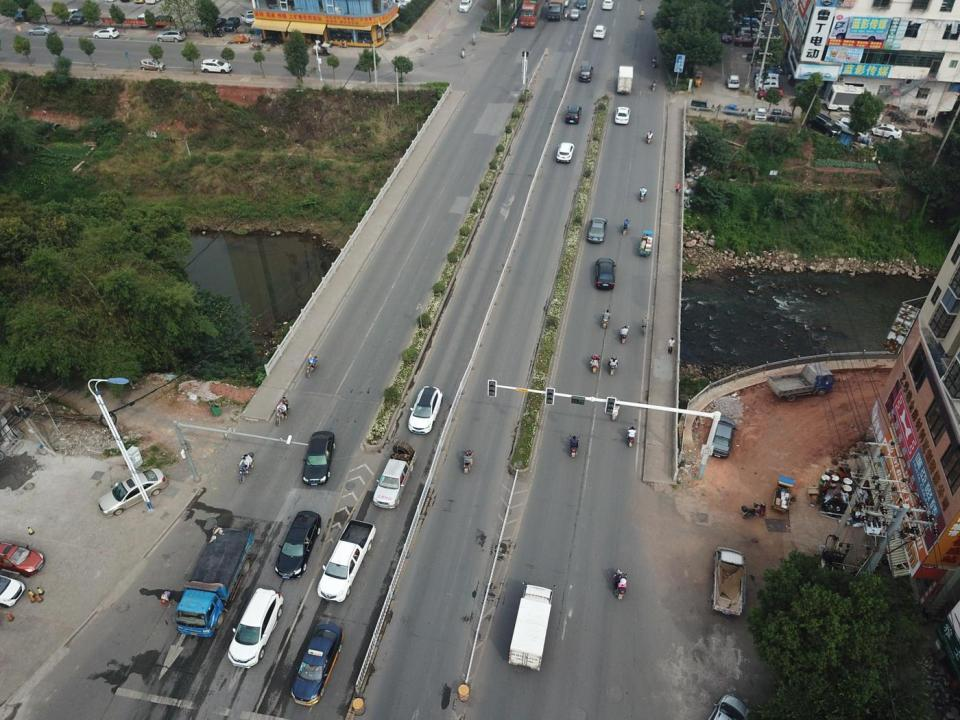car: (227, 588, 283, 669), (292, 623, 344, 706), (97, 468, 169, 517), (275, 510, 320, 578), (302, 430, 334, 486), (409, 385, 443, 433), (0, 540, 45, 576), (708, 415, 736, 458), (807, 112, 841, 137), (835, 116, 870, 138), (596, 258, 615, 289), (866, 123, 902, 139), (587, 217, 608, 243), (201, 59, 232, 73), (155, 29, 186, 42), (556, 142, 575, 162), (140, 58, 166, 71), (92, 27, 119, 39), (614, 106, 631, 125), (734, 36, 763, 47), (565, 105, 582, 123), (758, 88, 783, 100), (205, 17, 228, 30), (29, 24, 55, 35), (137, 12, 156, 27), (60, 8, 80, 22), (154, 15, 174, 28), (242, 10, 258, 26), (580, 64, 593, 82), (223, 17, 240, 30), (592, 25, 607, 39), (755, 69, 778, 78), (754, 106, 766, 121), (722, 27, 732, 44), (458, 0, 472, 12), (726, 76, 739, 88), (387, 0, 408, 7), (770, 108, 781, 121), (601, 0, 614, 10), (576, 0, 588, 9)
truck: (176, 527, 255, 636), (318, 518, 376, 602), (507, 584, 553, 672), (373, 444, 416, 508), (767, 364, 833, 403), (711, 547, 745, 618), (826, 84, 874, 114), (520, 0, 550, 28), (617, 66, 633, 94), (547, 0, 565, 22), (570, 8, 580, 20)
van: (755, 78, 780, 91), (72, 6, 90, 24), (739, 28, 765, 40), (755, 72, 778, 84)
